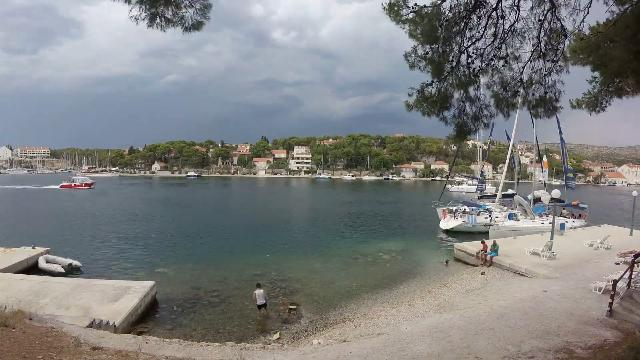speedboat: (57, 172, 99, 192)
